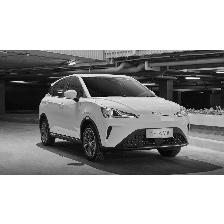EV: (38, 75, 192, 163)
